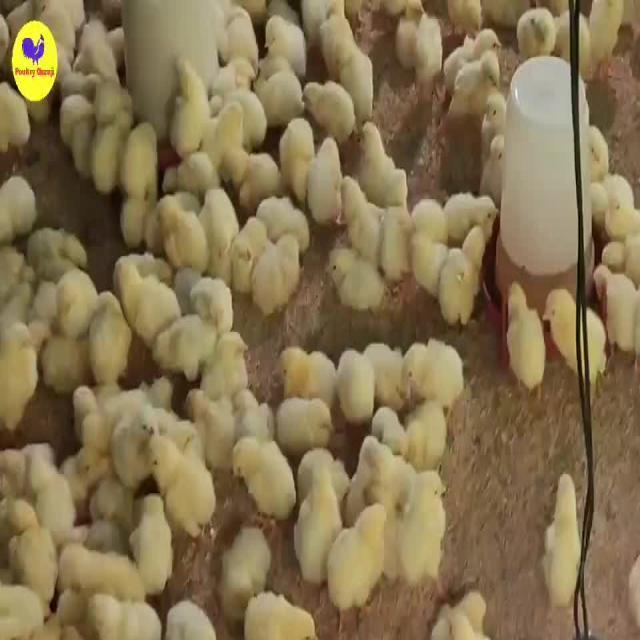poussin: (332, 175, 412, 280), (149, 280, 236, 367), (538, 286, 607, 394), (221, 440, 301, 523), (328, 504, 390, 608), (403, 472, 456, 582), (333, 344, 408, 418), (543, 471, 582, 607), (321, 22, 377, 116), (504, 280, 547, 400), (401, 338, 470, 410), (148, 443, 215, 517), (6, 448, 69, 526), (125, 494, 173, 594), (353, 122, 410, 206), (0, 322, 42, 434), (368, 405, 458, 457), (592, 266, 640, 362), (118, 260, 178, 336), (440, 230, 486, 326), (148, 200, 206, 276), (66, 446, 125, 520), (58, 542, 137, 596), (296, 478, 336, 582), (273, 344, 340, 406), (268, 114, 314, 202), (169, 56, 209, 156), (243, 587, 318, 640), (322, 246, 383, 310), (446, 59, 504, 126), (255, 234, 302, 316), (218, 526, 266, 606), (270, 398, 338, 452), (302, 76, 356, 142), (123, 124, 152, 246), (5, 528, 58, 594), (90, 594, 165, 640), (92, 96, 128, 190), (112, 412, 158, 480), (186, 396, 238, 456), (208, 336, 250, 410), (204, 188, 237, 280), (416, 198, 446, 296), (434, 588, 490, 640), (66, 384, 111, 448), (94, 296, 128, 380), (310, 134, 342, 222), (0, 596, 62, 640), (236, 215, 268, 298), (50, 273, 95, 332), (43, 334, 92, 388), (302, 447, 354, 497), (264, 17, 310, 73), (0, 177, 40, 240), (234, 388, 280, 441), (60, 96, 96, 163), (604, 188, 640, 254), (217, 57, 261, 111), (444, 28, 506, 66), (510, 9, 558, 58), (446, 196, 499, 239), (237, 152, 280, 205), (175, 160, 222, 199), (216, 108, 244, 172), (258, 77, 300, 117), (470, 96, 508, 140), (597, 243, 640, 280), (480, 140, 504, 198), (586, 130, 610, 182)
